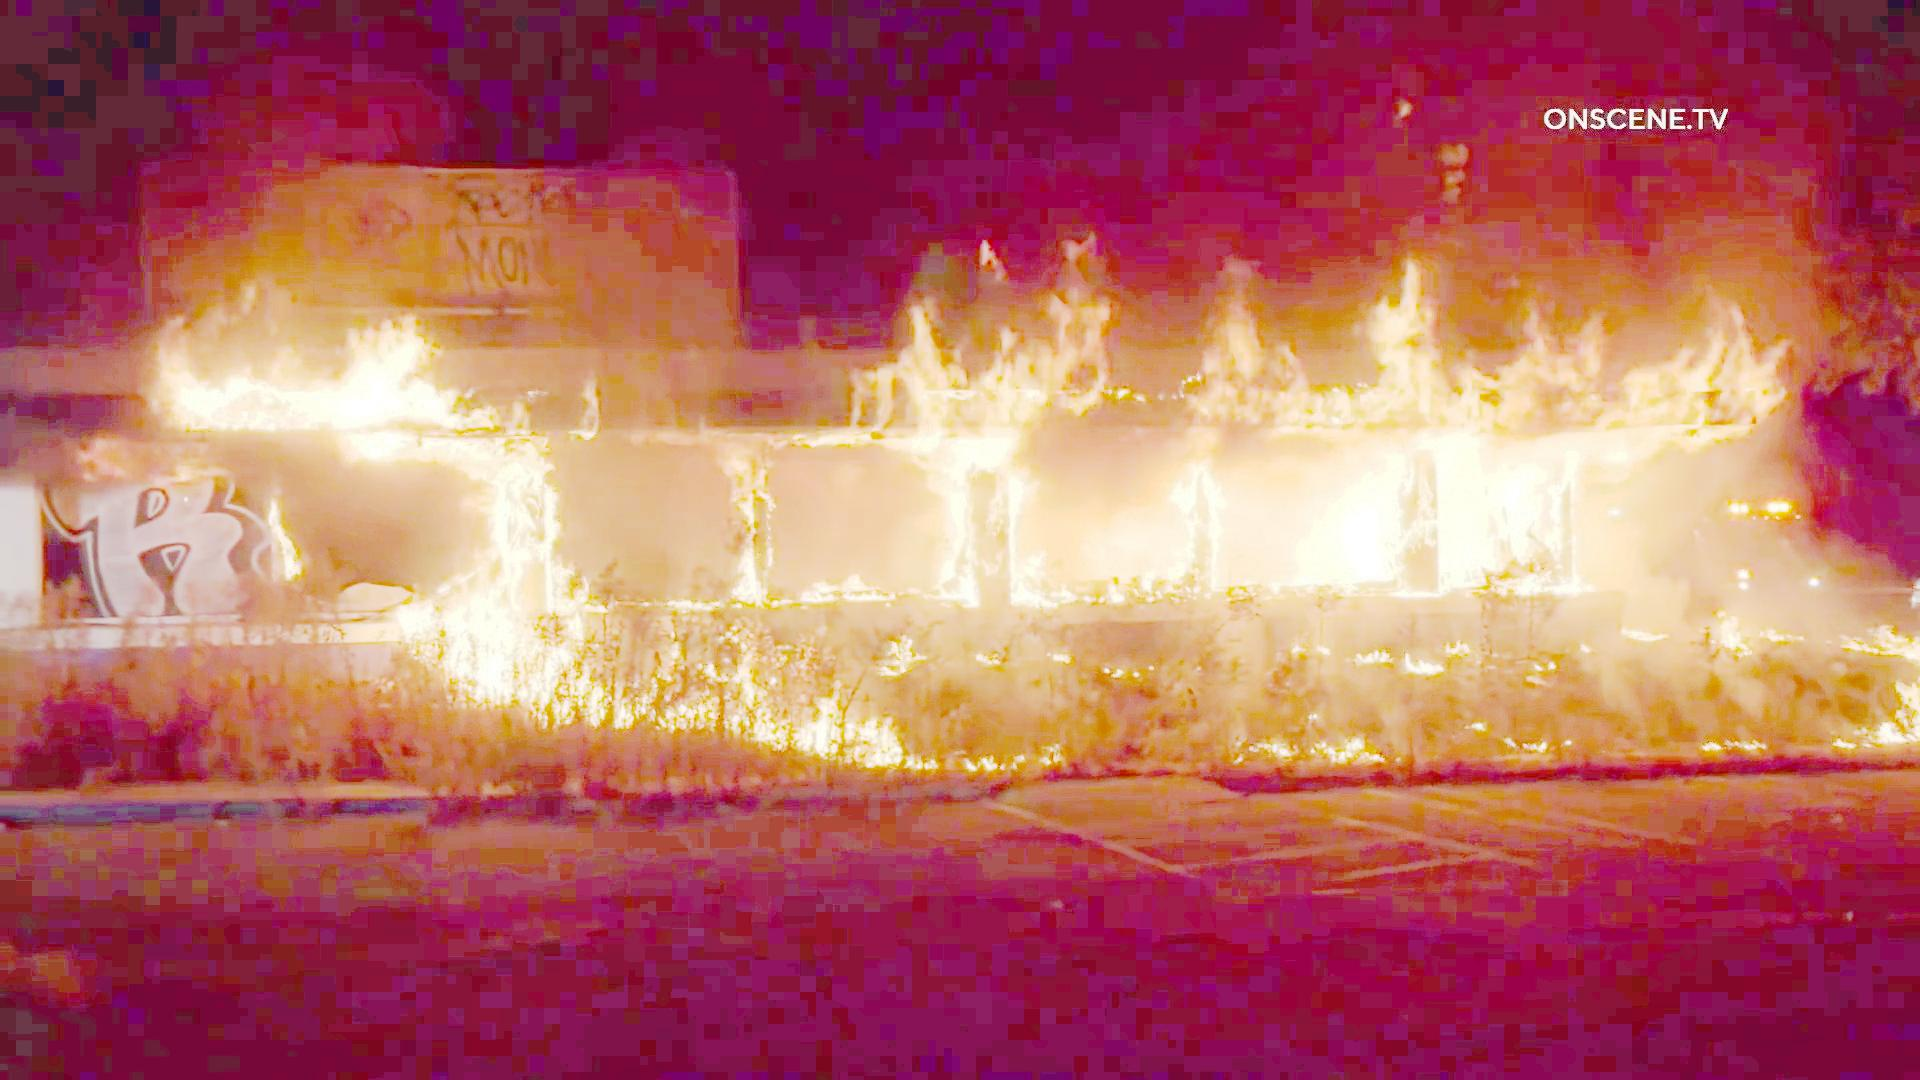fire: (1081, 293, 1750, 607), (138, 310, 535, 456), (886, 335, 1031, 592)
